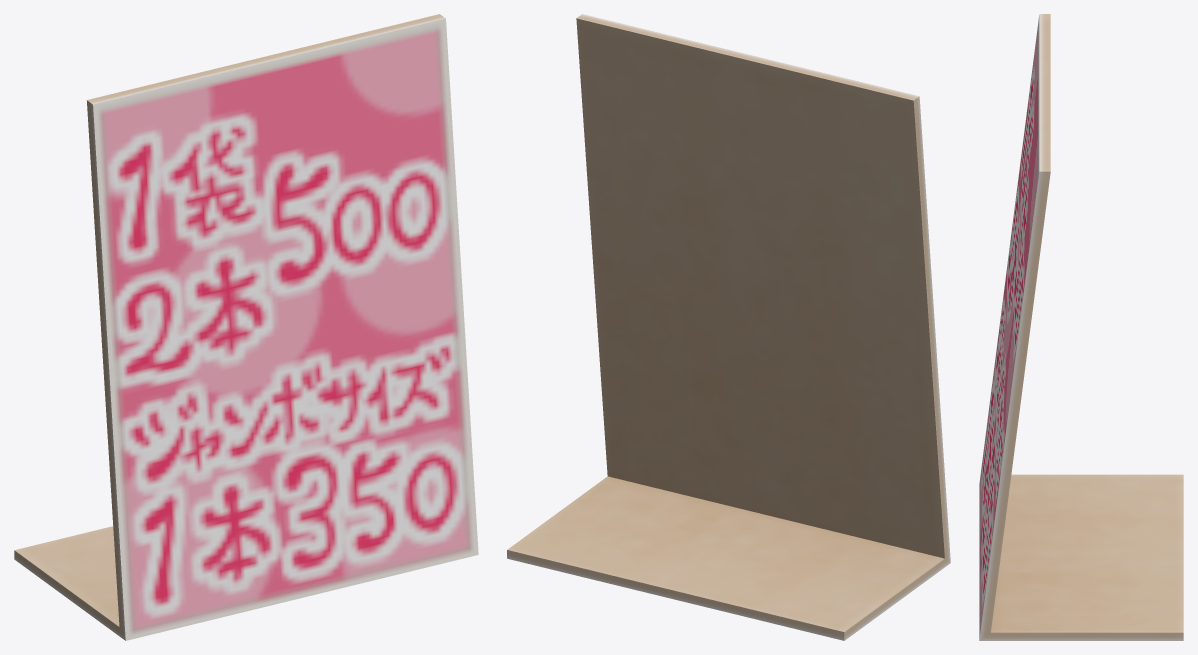
File: jsf_Flyer_CottonCandy_05.fbx
3 views of the same model, side by side, from view 1: azimuth 30°, elevation 25°; view 2: azimuth 150°, elevation 25°; view 3: azimuth 270°, elevation 25° (orthographic). The views are drawn at different scales.
Parts seen in each view (by area): view 1: jsf_Flyer_CottonCandy_05; view 2: jsf_Flyer_CottonCandy_05; view 3: jsf_Flyer_CottonCandy_05.
Boxes of the visible parts, left/top/right/bottom form: jsf_Flyer_CottonCandy_05: left=14, top=14, right=478, bottom=640; jsf_Flyer_CottonCandy_05: left=507, top=14, right=950, bottom=640; jsf_Flyer_CottonCandy_05: left=979, top=14, right=1183, bottom=640.
Bounding box in the file's own units: 29.64 × 41.11 × 16.2.
